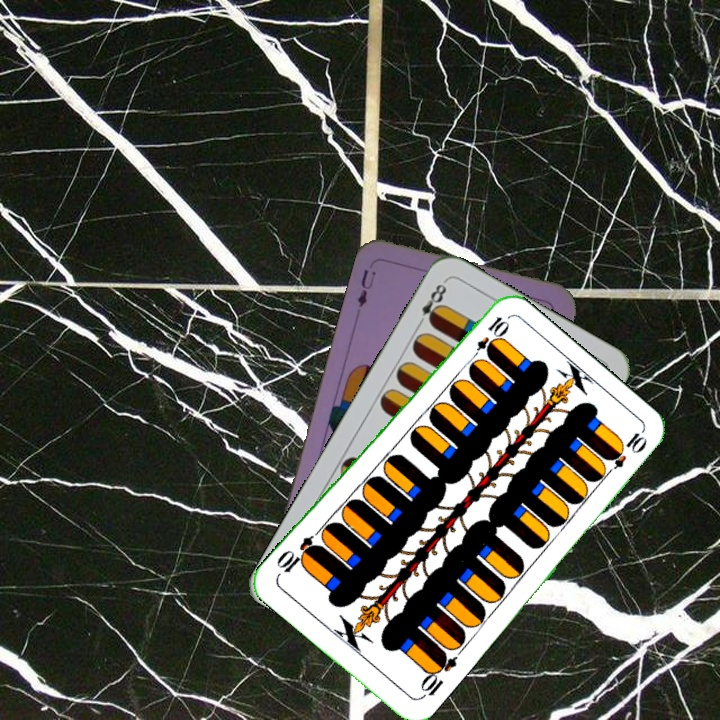E10: (466, 312, 511, 365), (416, 648, 459, 702)
E8: (412, 277, 449, 330)
EU: (353, 265, 379, 310)
